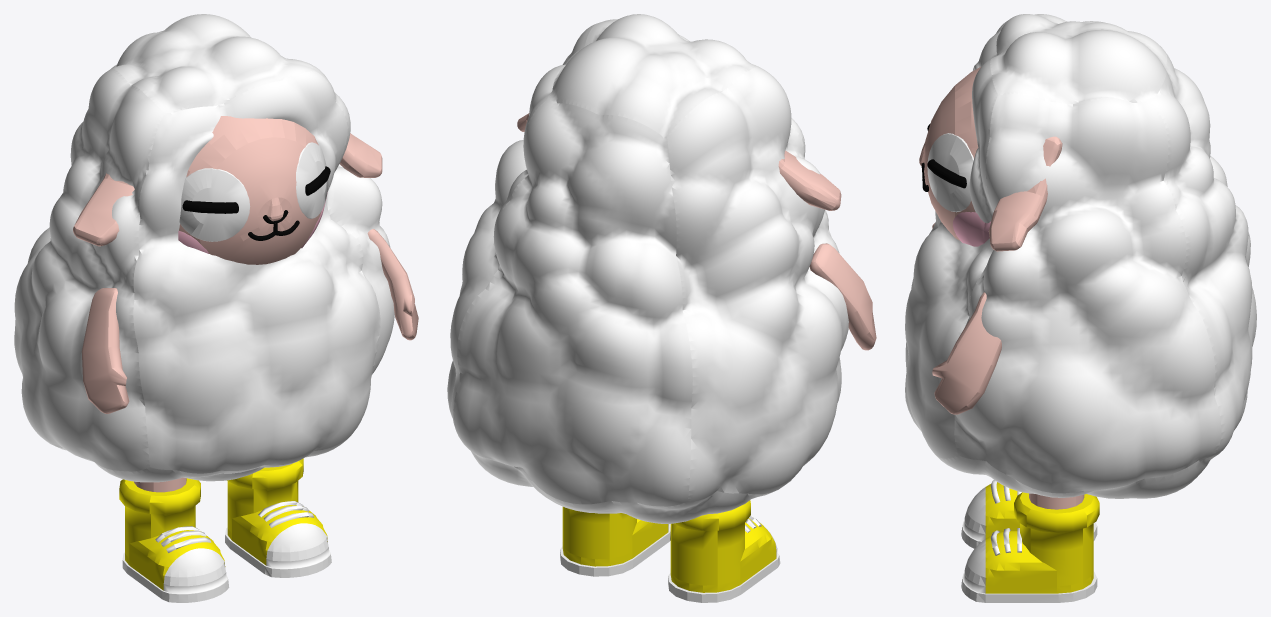
Rendered from Yangchun.glb.
The picture shows the model from 3 angles, left to right: view 1: azimuth 30°, elevation 25°; view 2: azimuth 150°, elevation 25°; view 3: azimuth 270°, elevation 25°; orthographic projection. The views are drawn at different scales.
Parts seen in each view (by area): view 1: MainBuilding; view 2: MainBuilding; view 3: MainBuilding.
Part boxes in pixels (x1,y1,x2,y2): MainBuilding: [14, 14, 418, 602]; MainBuilding: [447, 14, 876, 602]; MainBuilding: [905, 14, 1256, 602].
Size of the model in its own units: 1.44 by 2.1 by 1.25.
Materials: 1 (1 with a texture image).
